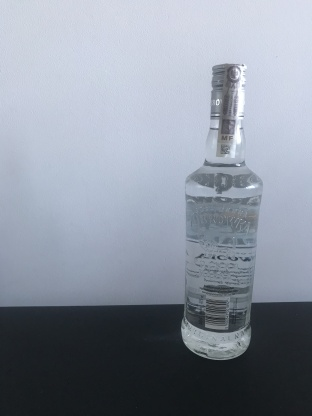nakretka: (207, 59, 248, 123)
